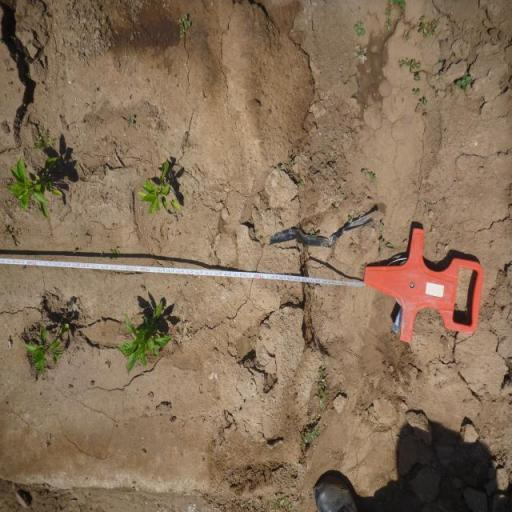plant: (4, 153, 68, 223), (117, 300, 173, 378), (21, 320, 72, 380), (137, 159, 183, 217)
weed: (298, 422, 322, 453), (32, 126, 60, 152), (416, 14, 438, 40), (316, 365, 328, 406), (2, 224, 20, 250), (176, 12, 192, 41), (398, 56, 423, 74), (266, 496, 294, 512), (376, 236, 394, 258), (456, 74, 473, 92), (352, 20, 366, 39), (108, 246, 123, 263), (353, 48, 366, 64), (386, 0, 408, 8), (366, 404, 376, 418), (384, 18, 393, 32), (330, 200, 340, 212), (126, 115, 136, 127), (307, 229, 320, 237), (420, 96, 430, 106), (66, 300, 75, 311), (413, 72, 421, 83), (370, 171, 378, 182), (104, 358, 112, 369), (411, 87, 420, 96), (402, 32, 410, 42), (421, 108, 429, 118), (361, 166, 369, 176), (346, 214, 354, 223), (374, 15, 382, 24), (385, 6, 392, 16), (296, 178, 303, 188), (77, 50, 85, 58), (288, 157, 295, 166), (379, 218, 385, 228), (366, 8, 372, 18), (62, 68, 66, 82), (398, 16, 405, 22), (349, 244, 355, 250), (258, 235, 264, 241), (72, 248, 78, 254), (26, 72, 32, 78), (254, 228, 259, 234), (276, 165, 282, 170), (84, 233, 88, 238)
